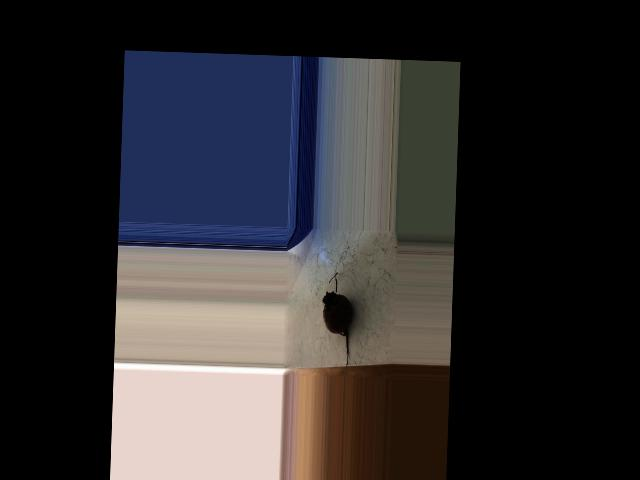beet: (321, 272, 353, 370)
